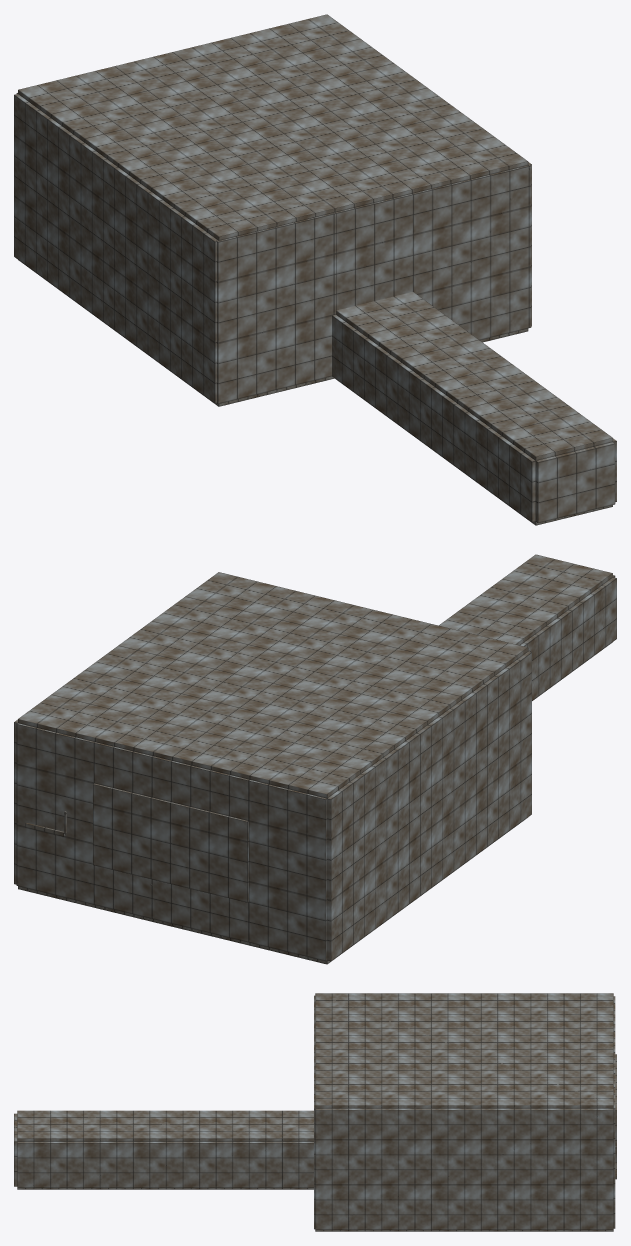
Rendered from derelict_fixture.glb.
3 views of the same model, one above another, from view 1: azimuth 30°, elevation 25°; view 2: azimuth 150°, elevation 25°; view 3: azimuth 270°, elevation 25° (orthographic). The views are drawn at different scales.
Visible parts, largest first — view 1: bay_ceiling, bay_wall_w, bay_front_w, bay_front_e, corridor_ceiling, corridor_wall_w, bay_front_top, corridor_back, bay_floor; view 2: bay_ceiling, bay_wall_w, bay_back_w, breach_barrier, bay_back_e, corridor_ceiling, bay_back_top, bay_back_low, corridor_wall_w, bay_floor; view 3: bay_wall_e, bay_ceiling, corridor_wall_e, corridor_ceiling, bay_floor, corridor_floor, bay_back_e.
Part boxes in pixels (bbox=[...]): bay_ceiling: bbox=[18, 14, 528, 240]; bay_wall_w: bbox=[14, 94, 217, 403]; bay_front_w: bbox=[216, 212, 335, 403]; bay_front_e: bbox=[412, 164, 531, 340]; corridor_ceiling: bbox=[336, 292, 612, 460]; corridor_wall_w: bbox=[332, 314, 535, 522]; bay_front_top: bbox=[335, 194, 413, 310]; corridor_back: bbox=[535, 442, 615, 522]; bay_floor: bbox=[18, 260, 528, 406]; bay_ceiling: bbox=[18, 572, 528, 798]; bay_wall_w: bbox=[327, 651, 531, 961]; bay_back_w: bbox=[248, 780, 327, 961]; breach_barrier: bbox=[93, 783, 248, 902]; bay_back_e: bbox=[16, 723, 94, 904]; corridor_ceiling: bbox=[439, 554, 612, 645]; bay_back_top: bbox=[94, 742, 249, 820]; bay_back_low: bbox=[94, 865, 248, 942]; corridor_wall_w: bbox=[520, 577, 616, 700]; bay_floor: bbox=[18, 817, 527, 964]; bay_wall_e: bbox=[315, 1108, 613, 1229]; bay_ceiling: bbox=[315, 993, 613, 1108]; corridor_wall_e: bbox=[17, 1141, 313, 1187]; corridor_ceiling: bbox=[17, 1110, 313, 1141]; bay_floor: bbox=[315, 1230, 613, 1231]; corridor_floor: bbox=[17, 1188, 313, 1189]; bay_back_e: bbox=[613, 1080, 615, 1228].
Bounding box in the file's own units: 16.4 × 8.4 × 36.4.
Materials: 8 (3 with a texture image).
